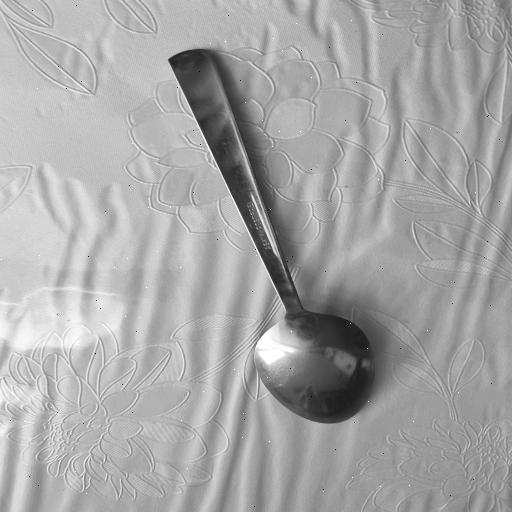spoon: (165, 50, 373, 425)
